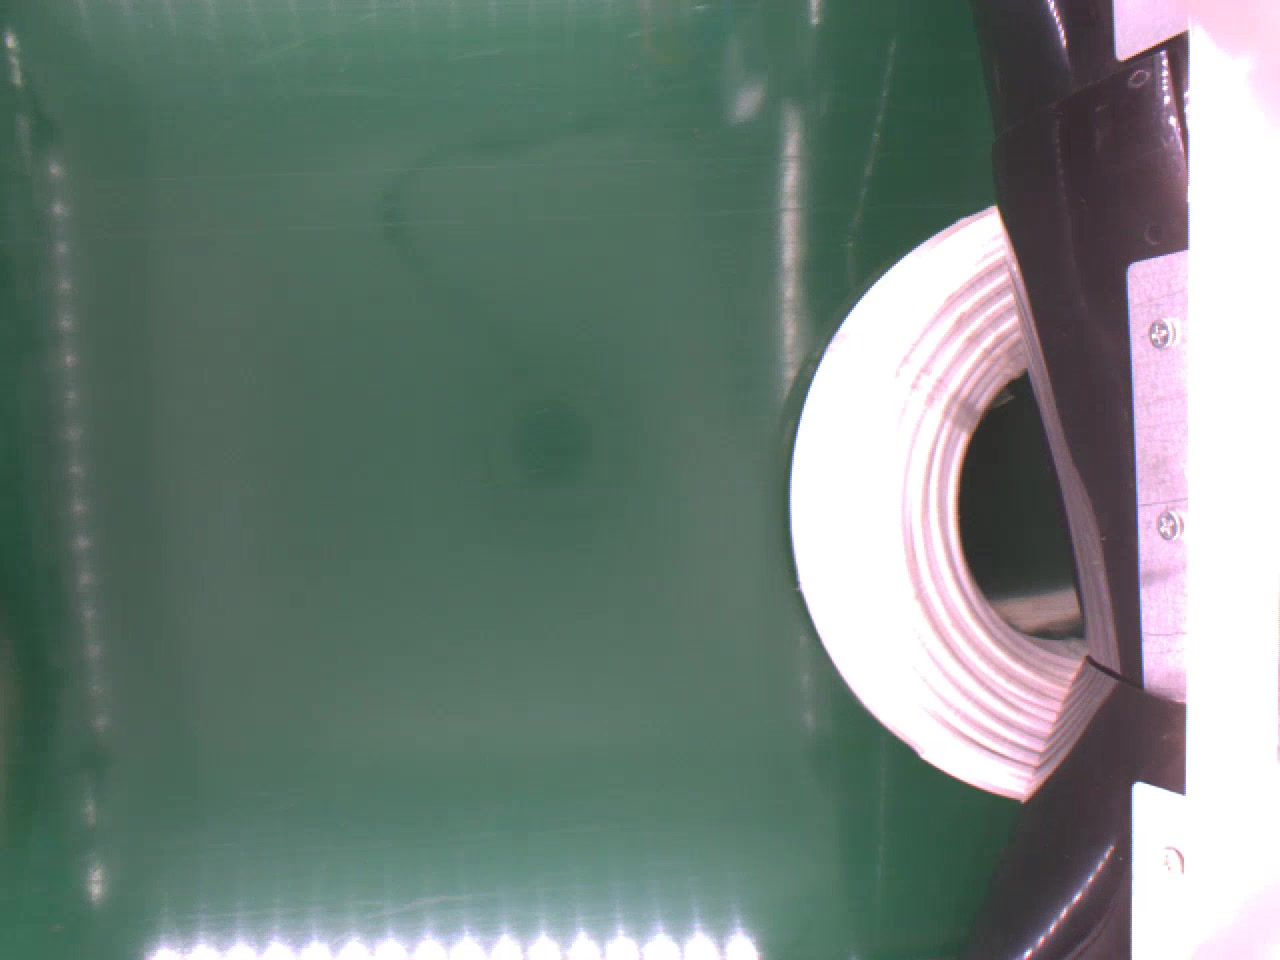white: (787, 197, 1085, 805)
